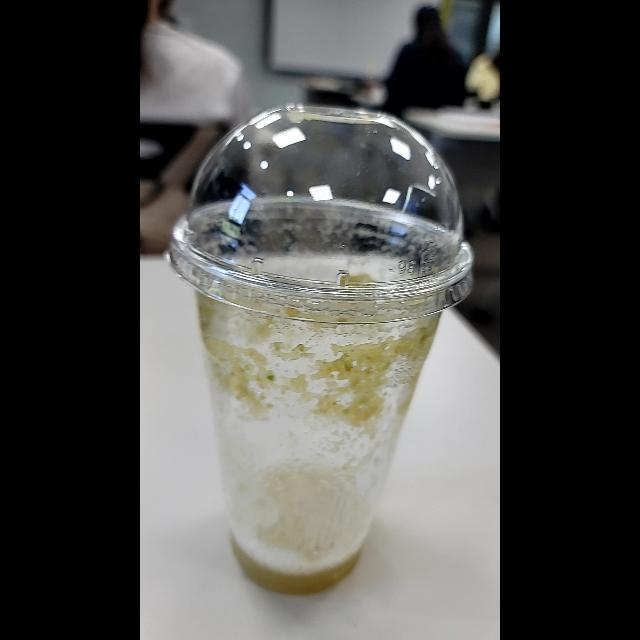plastic_cup: (167, 101, 471, 594)
plastic_cup_lid: (170, 104, 474, 322)
